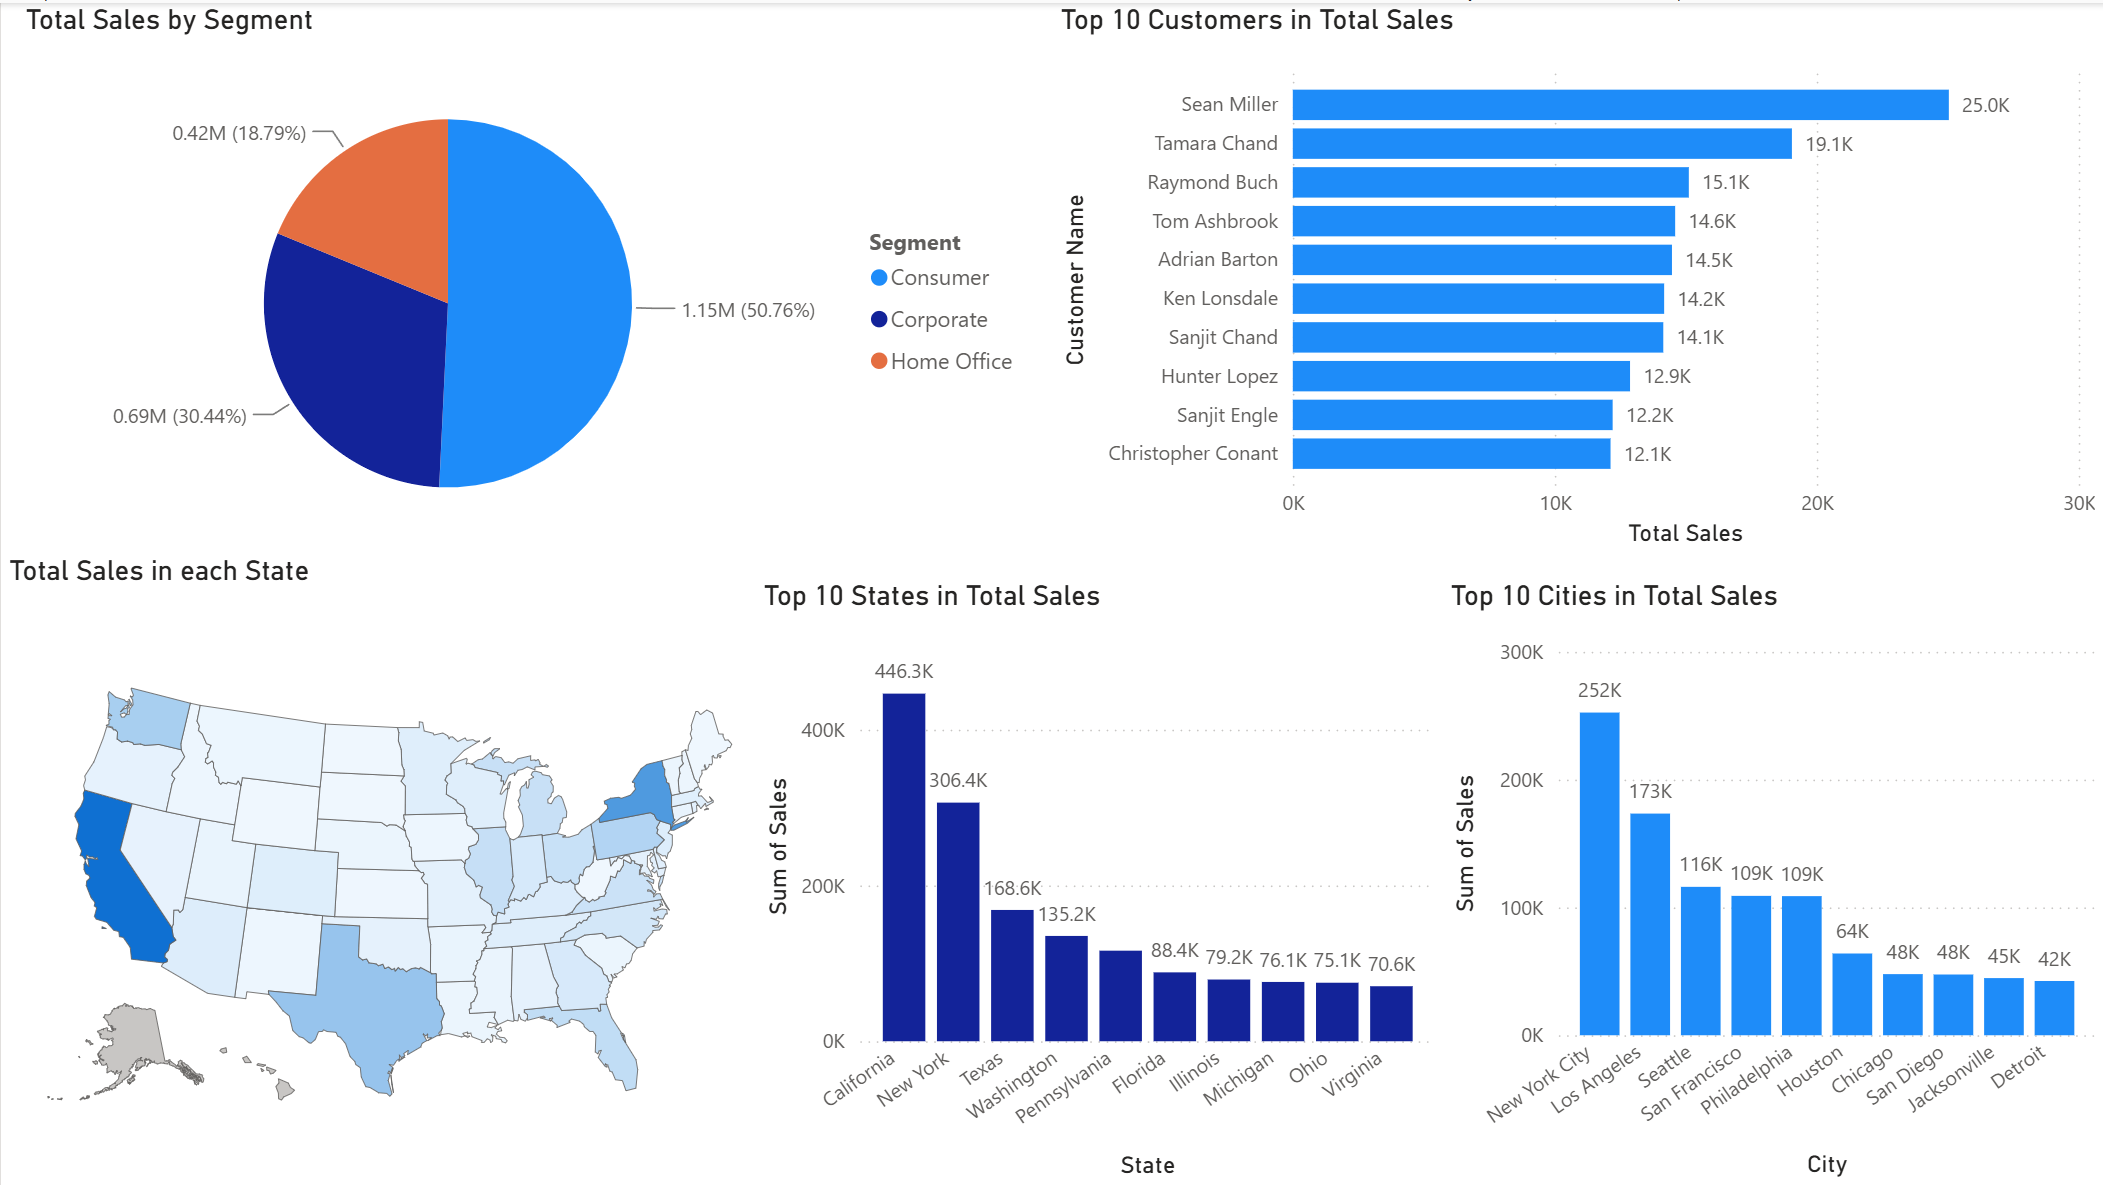

Layout of this report page (visuals, bound fields, positions):
{"tool":"powerbi","page":{"name":"Customer Performance","canvas":[1280,720],"ordinal":2},"visuals":[{"type":"pieChart","title":"Total Sales by Segment","fields":{"Category":["superstore_sales_dataset.Segment"],"Y":["Sum(superstore_sales_dataset.Sales)"]},"box":[9.8,0,620.6,335.5],"z":0},{"type":"clusteredBarChart","title":"Top 10 Customers in Total Sales","fields":{"Category":["superstore_sales_dataset.Customer Name"],"Y":["Sum(superstore_sales_dataset.Sales)"]},"box":[640.2,0,639.6,335.5],"z":1000},{"type":"shapeMap","title":"Total Sales in each State","fields":{"Value":["Sum(superstore_sales_dataset.Sales)"],"Category":["superstore_sales_dataset.State"]},"box":[0,335.5,472.8,384.5],"z":2000},{"type":"clusteredColumnChart","title":"Top 10 States in Total Sales","fields":{"Y":["Sum(superstore_sales_dataset.Sales)"],"Category":["superstore_sales_dataset.State"]},"box":[459.1,350.5,418.5,369.5],"z":3000},{"type":"clusteredColumnChart","title":"Top 10 Cities in Total Sales","fields":{"Y":["Sum(superstore_sales_dataset.Sales)"],"Category":["superstore_sales_dataset.City"]},"box":[877.6,351.2,402.2,368.8],"z":4000}]}

Visuals, with their boxes in screenshot pixels (x1, y1, x2, y2), scaled from the page's 1280x720 canvas onto the 2103x1185 screenshot:
"Total Sales by Segment" pieChart: x1=16, y1=0, x2=1036, y2=552
"Top 10 Customers in Total Sales" clusteredBarChart: x1=1052, y1=0, x2=2102, y2=552
"Total Sales in each State" shapeMap: x1=0, y1=552, x2=777, y2=1184
"Top 10 States in Total Sales" clusteredColumnChart: x1=754, y1=577, x2=1442, y2=1184
"Top 10 Cities in Total Sales" clusteredColumnChart: x1=1442, y1=578, x2=2102, y2=1184
